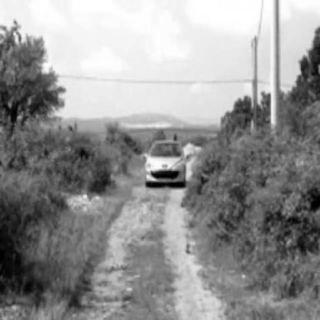other: (172, 134, 202, 214)
